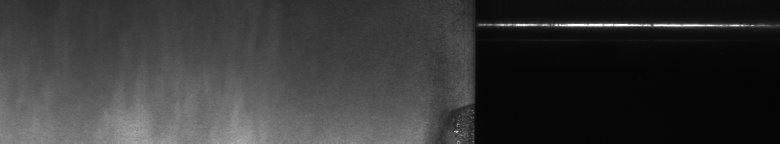hb: (420, 88, 464, 136)
